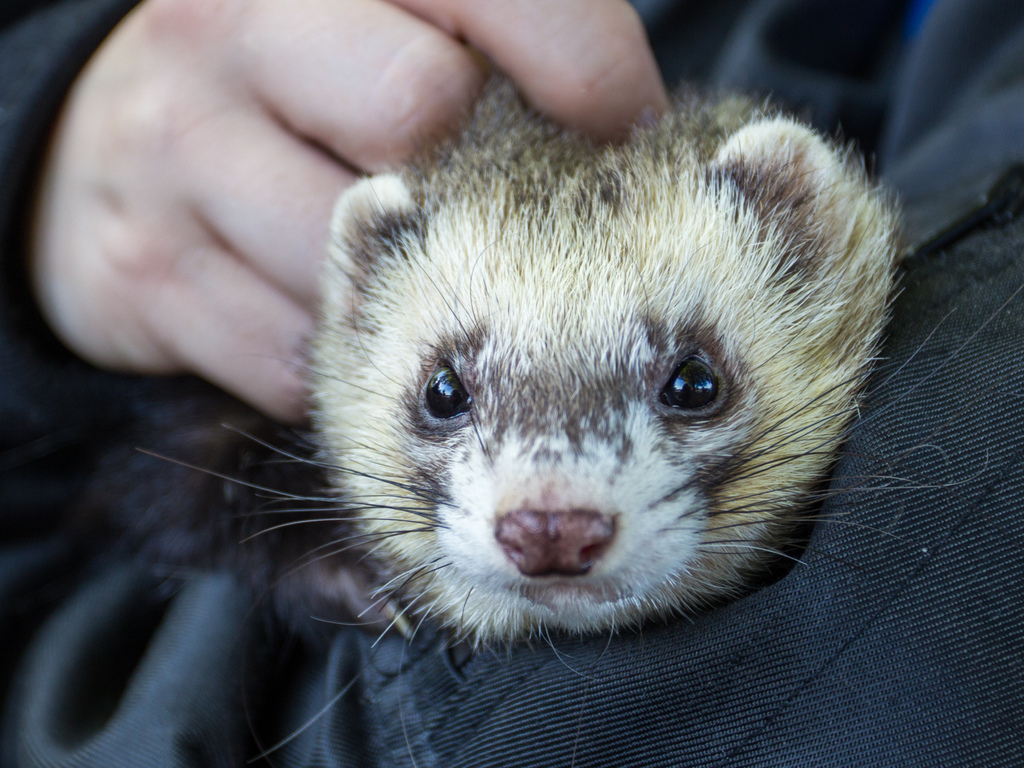Human_hand: (28, 0, 671, 428)
